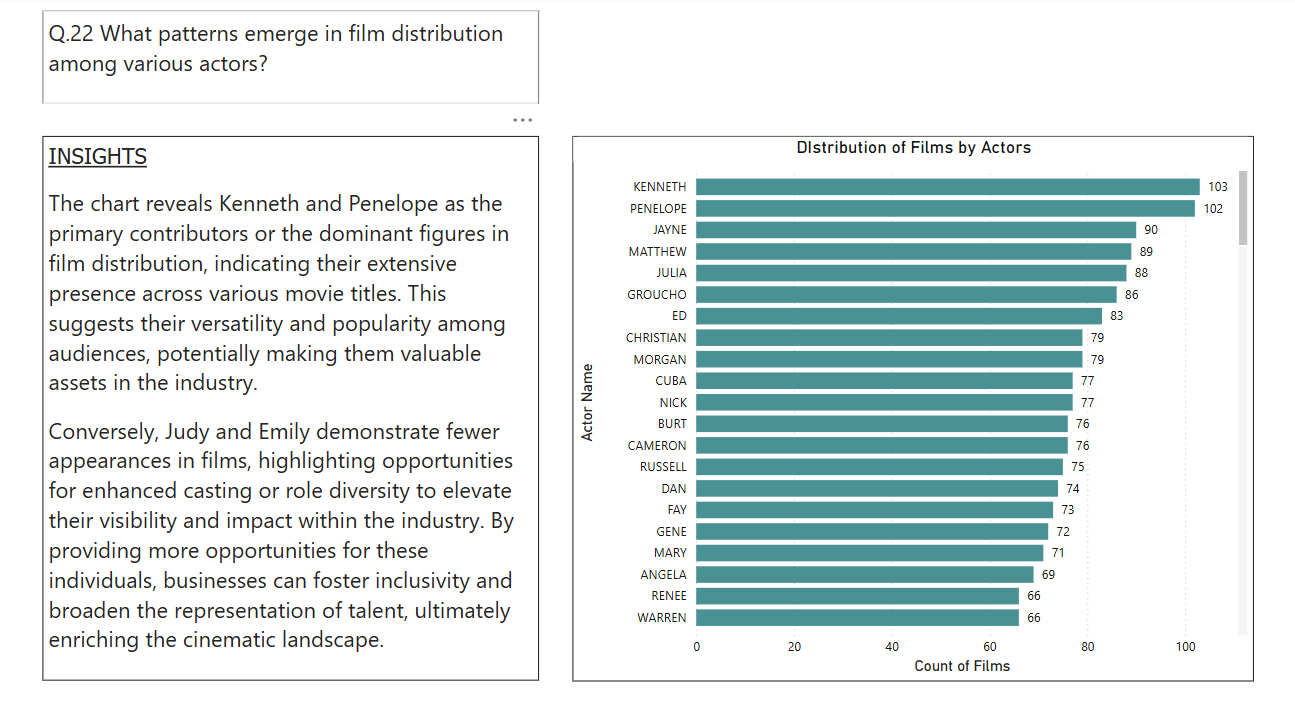

Layout of this report page (visuals, bound fields, positions):
{"tool":"powerbi","page":{"name":"Q22","canvas":[1280,720],"ordinal":27},"visuals":[{"type":"textbox","box":[55.8,14,479.1,89.5],"z":0},{"type":"textbox","box":[55.8,134.9,479.1,525.6],"z":1000},{"type":"barChart","title":"DIstribution of Films by Actors","fields":{"Category":["actor.first_name"],"Y":["CountNonNull(film_actor.film_id)"]},"box":[567,135.1,657.5,526],"z":2000}]}

Visuals, with their boxes in screenshot pixels (x1, y1, x2, y2), scaled from the page's 1280x720 canvas onto the 1295x715 screenshot:
textbox: <region>56, 14, 541, 103</region>
textbox: <region>56, 134, 541, 656</region>
"DIstribution of Films by Actors" barChart: <region>574, 134, 1239, 657</region>
